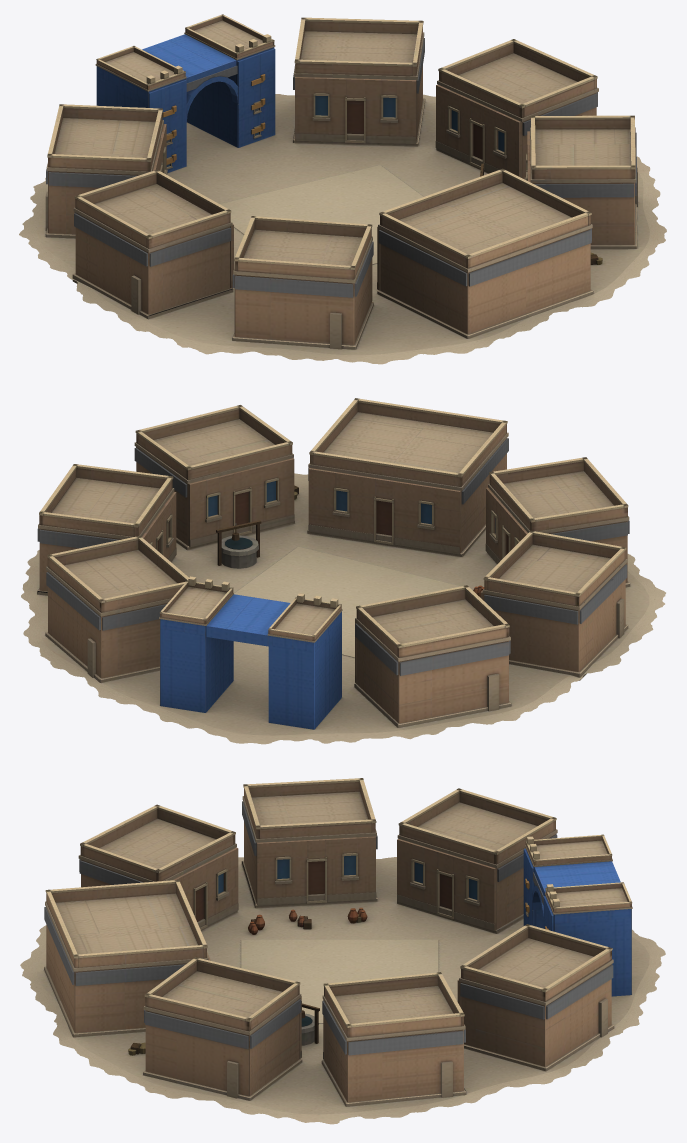
File: bronze-town-small-b-levant.glb
3 views of the same model, one above another, from view 1: azimuth 30°, elevation 25°; view 2: azimuth 150°, elevation 25°; view 3: azimuth 270°, elevation 25° (orthographic).
Parts seen in each view (by area): view 1: LOD0; view 2: LOD0; view 3: LOD0.
Boxes of the visible parts, x1,y1,x2,y2 form: LOD0: (19,14,666,364); LOD0: (21,398,665,744); LOD0: (20,778,665,1124).
Size of what is drawn, in the model's own units: 3.98 by 0.6863 by 4.02.
3 materials, 3 textured.
